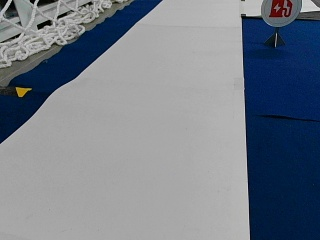battery: (260, 0, 301, 27)
